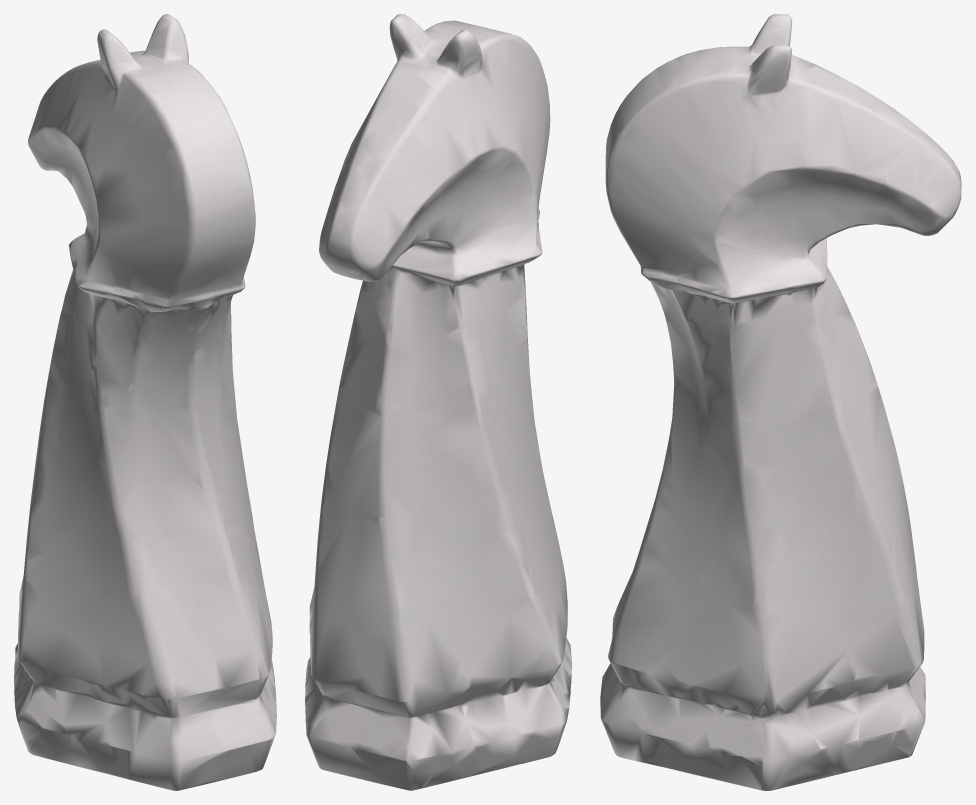
Rendered from knight-white.glb.
The picture shows the model from 3 angles, left to right: view 1: azimuth 30°, elevation 25°; view 2: azimuth 150°, elevation 25°; view 3: azimuth 270°, elevation 25°; orthographic projection.
Size of the model in its own units: 0.4703 by 1.25 by 0.5801.
1 material, 1 textured.
